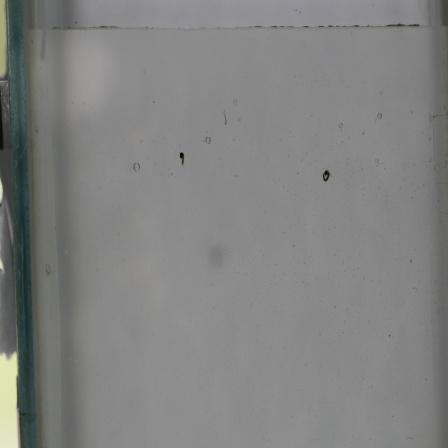Jentik-Nyamuk: (174, 148, 189, 170), (319, 165, 335, 183)
